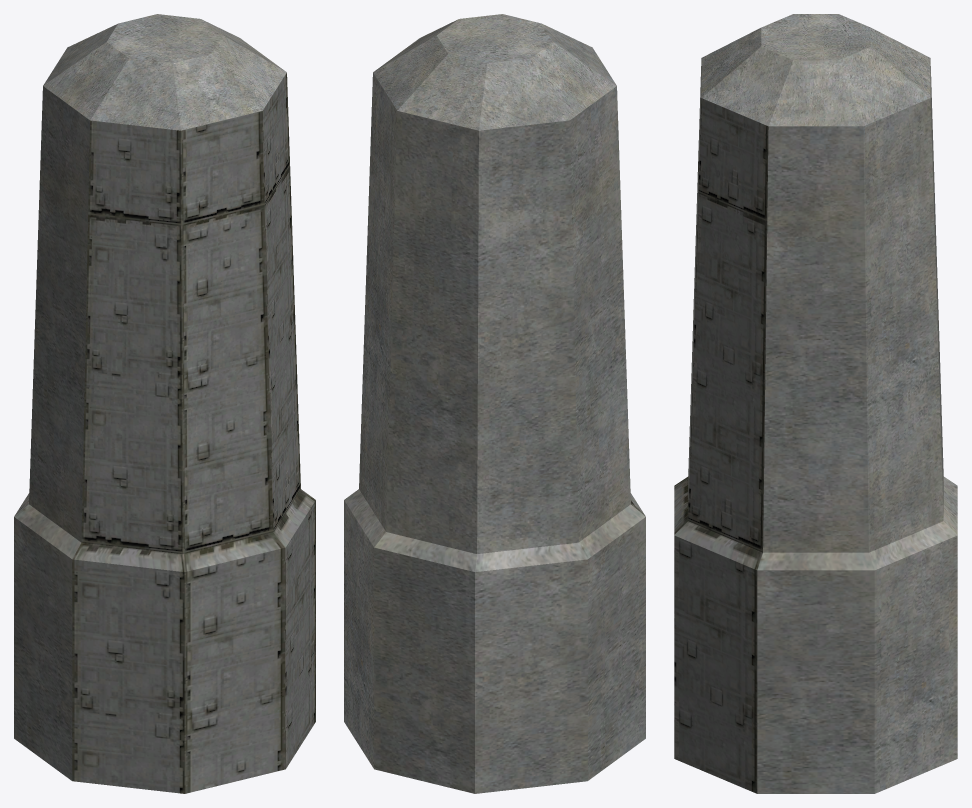
File: mun_all_military_column_strong_impl_s01_l0.fbx
The picture shows the model from 3 angles, left to right: view 1: azimuth 30°, elevation 25°; view 2: azimuth 150°, elevation 25°; view 3: azimuth 270°, elevation 25°; orthographic projection.
Parts seen in each view (by area): view 1: mesh_node; view 2: mesh_node; view 3: mesh_node.
Part boxes in pixels (x1,y1,x2,y2): mesh_node: (14, 14, 315, 793); mesh_node: (344, 14, 645, 793); mesh_node: (674, 14, 957, 793).
Size of the model in its own units: 2.73 by 7.4 by 2.73.
